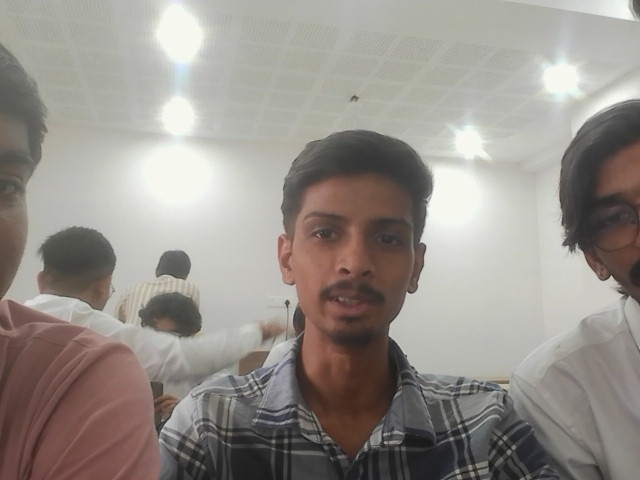light_on: (151, 87, 203, 133), (445, 116, 490, 161), (605, 1, 633, 25), (538, 62, 559, 87)
person: (0, 44, 161, 478), (505, 90, 639, 479), (66, 250, 199, 438), (155, 290, 230, 383)
